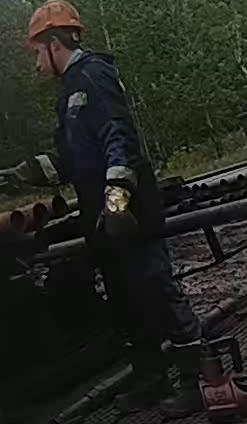gloves: (95, 166, 141, 244), (0, 155, 58, 202)
helmet: (26, 0, 85, 41)
vest: (53, 50, 164, 246)
